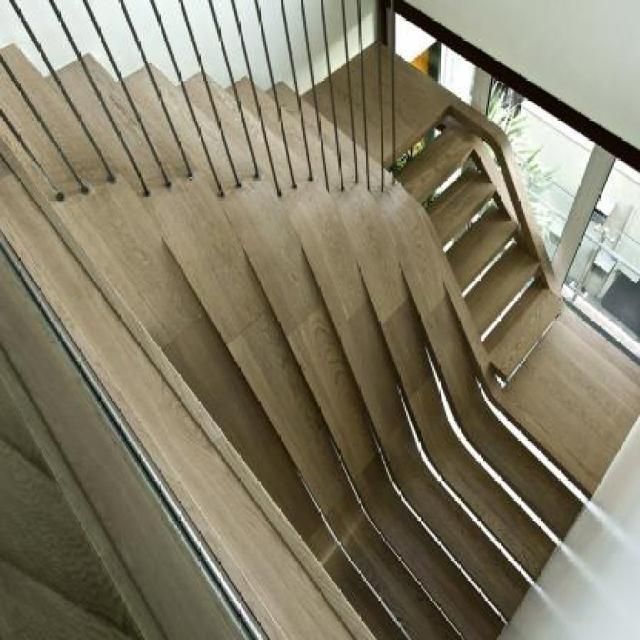stair: (374, 1, 628, 402), (0, 18, 355, 279)
